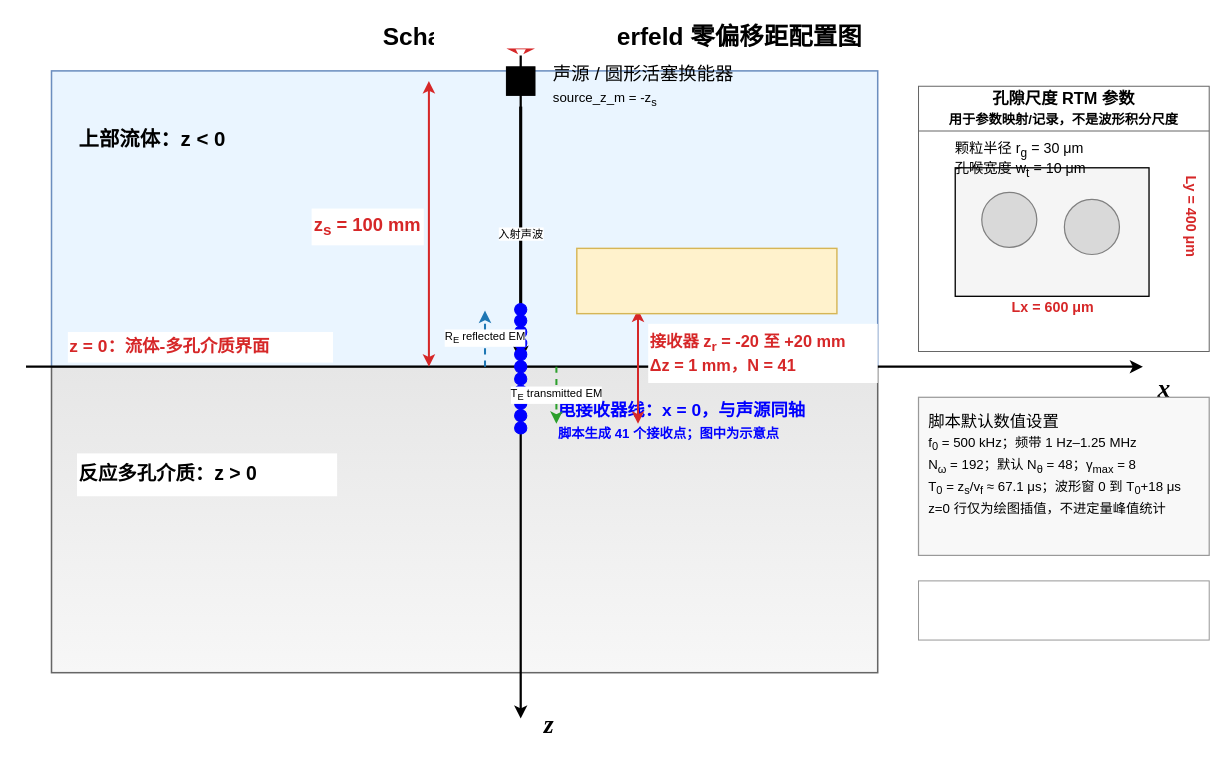
Some shapes in this 1227 by 758 pixel diagram are drawn without their labels. The centre of each missing label's shape, as x and y in pixels:
图例：黑色方块=声源；蓝点=电接收器；红色=几何尺寸；蓝/绿虚线=界面 EM 响应方向: point 1063,610
换能器半径 a = 14.29 mm: point 525,34
零偏移距：D = 0 mm cfg.offset_D 在合成前强制为 0.0 m: point 706,280
